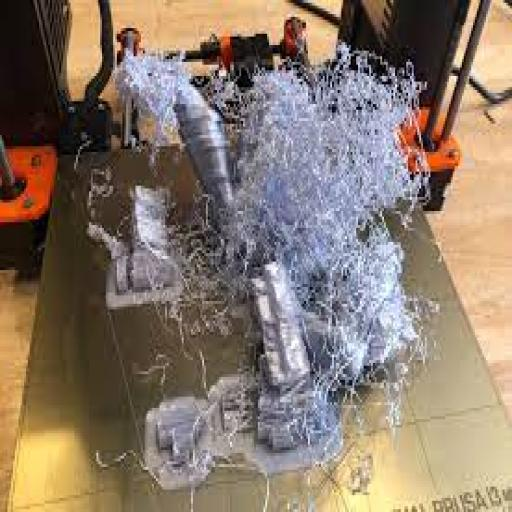spaghetti: (79, 14, 478, 510)
